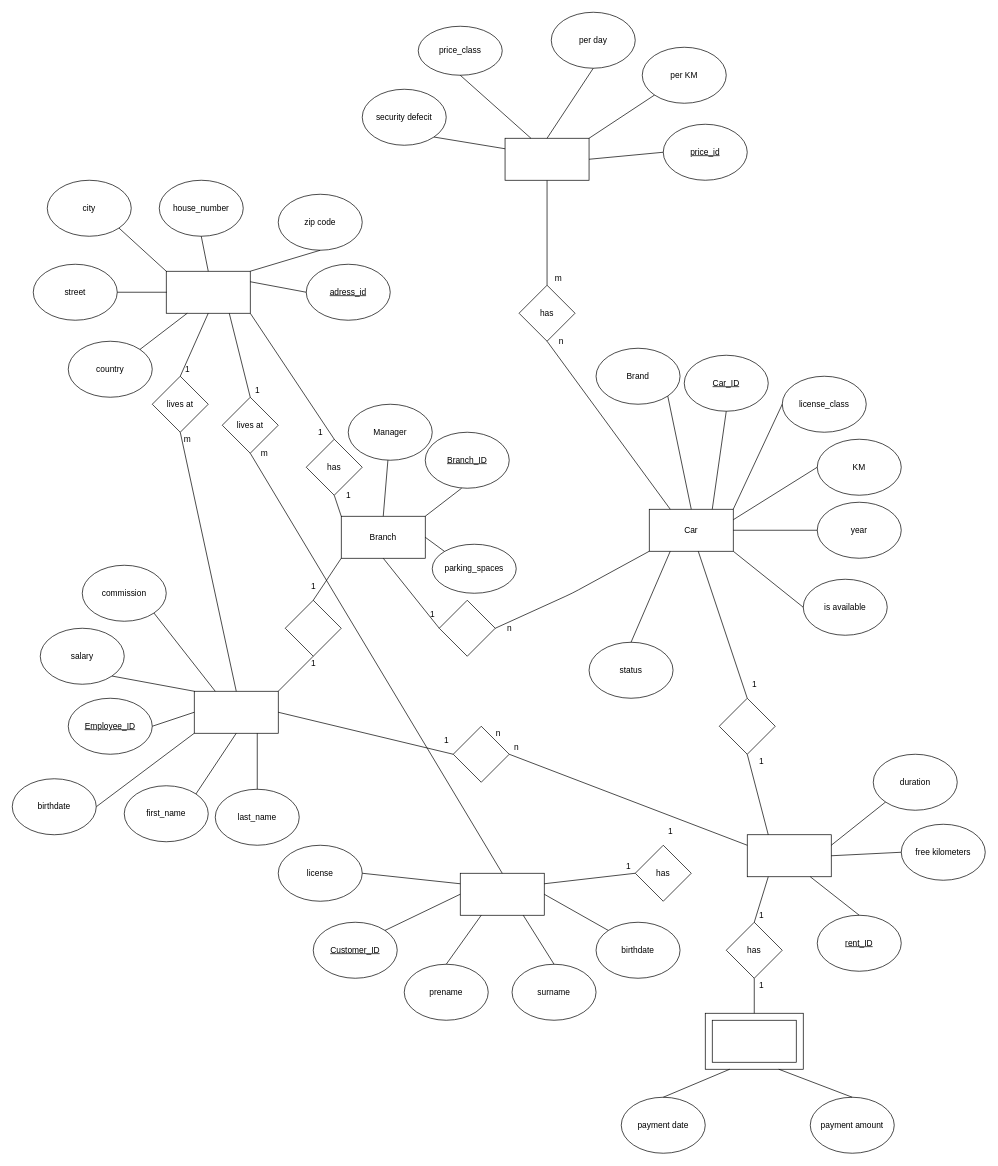
The diagram is 998 pixels wide and 1166 high, and some of its shapes have lost their labels. Each missing label, with the box of its shape:
Address: (166, 271, 250, 313)
Customer: (460, 873, 544, 915)
Employee: (194, 691, 278, 733)
gets: (719, 698, 775, 754)
is stored at: (439, 600, 495, 656)
issues: (453, 726, 509, 782)
payment: (712, 1020, 796, 1062)
price: (504, 138, 589, 180)
Rent: (747, 834, 831, 877)
works: (285, 600, 341, 656)
